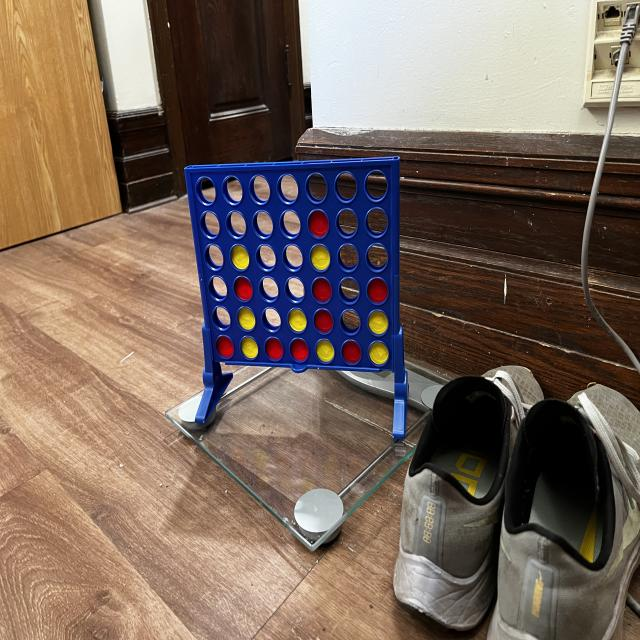Board: (182, 153, 401, 374)
No Piece: (333, 169, 359, 206), (362, 167, 389, 202), (336, 306, 364, 337), (246, 171, 271, 205), (364, 205, 389, 239), (334, 206, 360, 238), (336, 240, 361, 273), (276, 171, 300, 205), (304, 170, 328, 204), (365, 242, 390, 274), (278, 207, 302, 240), (336, 276, 362, 306), (252, 208, 276, 240), (252, 244, 278, 273), (220, 176, 244, 207), (198, 210, 222, 240), (283, 275, 307, 305), (260, 305, 284, 334), (203, 242, 226, 272), (281, 243, 304, 273), (257, 276, 281, 304), (195, 177, 218, 206), (226, 208, 248, 238), (206, 275, 228, 302), (210, 305, 232, 331)
Red Piece: (308, 242, 334, 272), (313, 338, 338, 366), (366, 276, 389, 306), (367, 338, 390, 368), (308, 208, 330, 239), (341, 338, 364, 365), (366, 309, 389, 336), (311, 276, 333, 304), (234, 275, 254, 303), (314, 307, 334, 335), (264, 336, 285, 362), (289, 337, 310, 363), (216, 334, 236, 361), (288, 307, 308, 333)
Yellow Piece: (239, 334, 261, 360), (230, 243, 250, 271), (236, 307, 257, 333)
